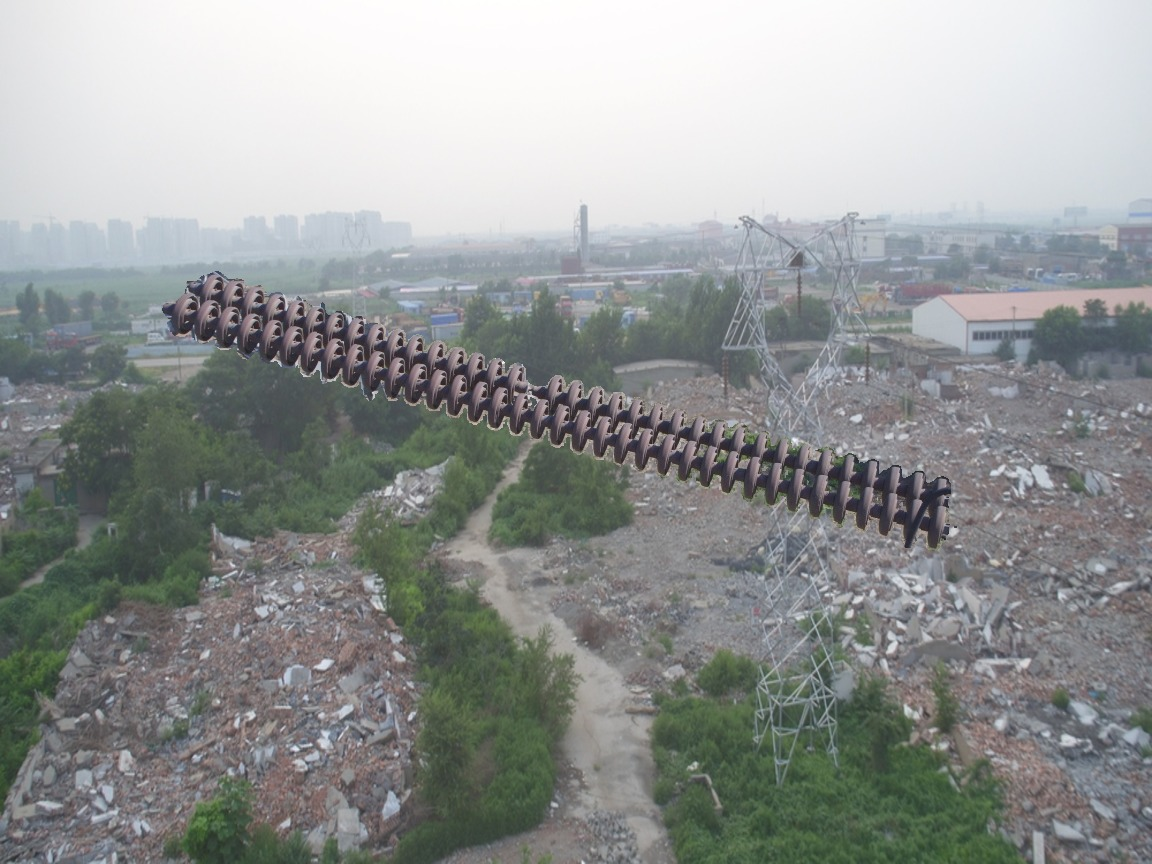defect: (499, 360, 568, 404)
